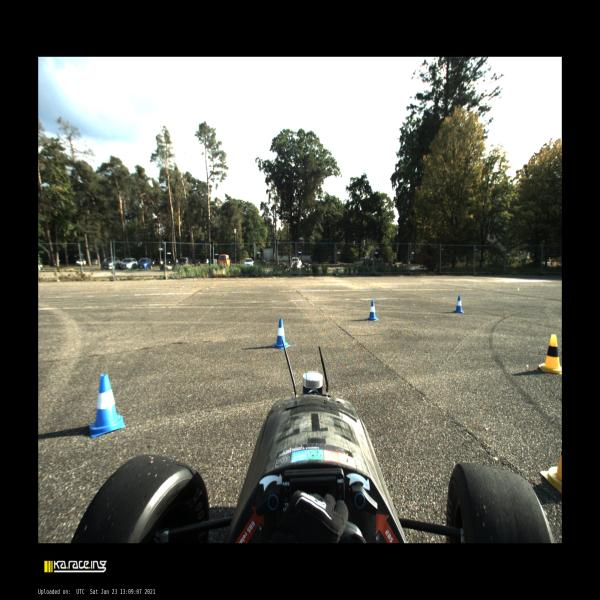blue_cone: (90, 374, 125, 438), (272, 318, 291, 348), (367, 300, 378, 321), (454, 296, 465, 313)
yellow_cone: (540, 450, 562, 493), (538, 335, 562, 374)
